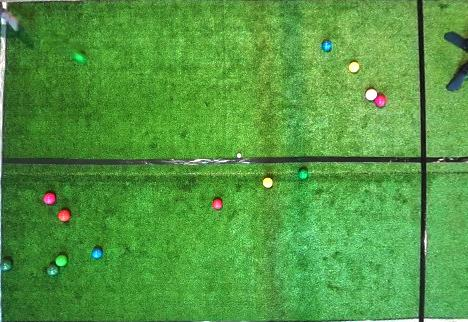blue: (91, 248, 102, 259), (322, 40, 332, 52)
green: (72, 52, 87, 63), (0, 258, 12, 271), (55, 255, 67, 267), (47, 265, 59, 276), (298, 168, 309, 179)
red: (43, 193, 55, 205), (58, 210, 70, 222), (374, 95, 386, 107), (365, 88, 377, 100), (213, 198, 223, 209)
vline: (417, 0, 467, 321), (0, 22, 9, 321)
white: (237, 153, 241, 158)
yellow: (348, 61, 359, 73), (262, 178, 273, 188)
